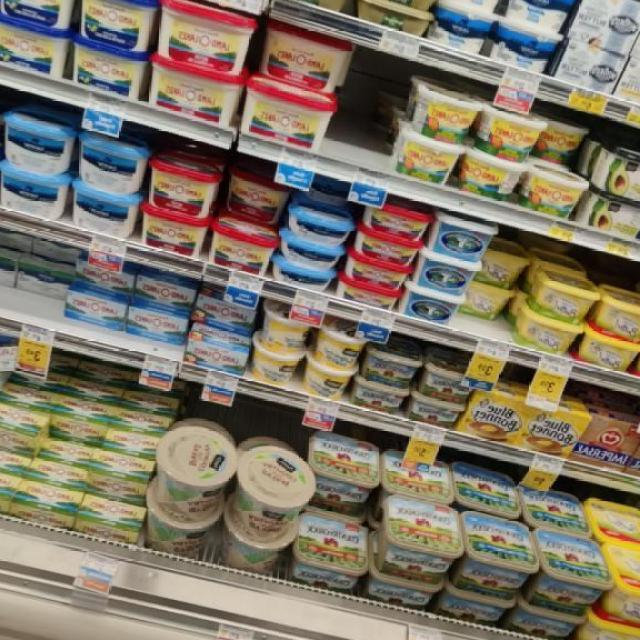Butter: (230, 437, 319, 543), (147, 427, 240, 528), (236, 71, 344, 153), (249, 17, 361, 95), (143, 0, 254, 75), (149, 49, 244, 128), (457, 514, 539, 603), (367, 503, 463, 579), (297, 432, 392, 503), (453, 378, 534, 457), (517, 388, 599, 464), (202, 210, 283, 283), (68, 32, 158, 97), (497, 303, 592, 362), (0, 98, 73, 174), (75, 127, 151, 200), (62, 173, 142, 242), (137, 159, 229, 218), (381, 123, 464, 188), (71, 0, 161, 58), (406, 79, 483, 146), (514, 158, 594, 222), (0, 11, 72, 81), (462, 139, 534, 207), (469, 97, 547, 158), (176, 317, 252, 379), (522, 262, 599, 319), (353, 193, 431, 248), (0, 162, 71, 221), (248, 293, 314, 354), (424, 212, 502, 262), (54, 276, 129, 328), (407, 250, 486, 299), (306, 311, 370, 371), (352, 343, 428, 392), (122, 297, 190, 349), (408, 362, 481, 408), (402, 278, 468, 325), (289, 198, 353, 246), (499, 0, 588, 28), (430, 0, 516, 17)
